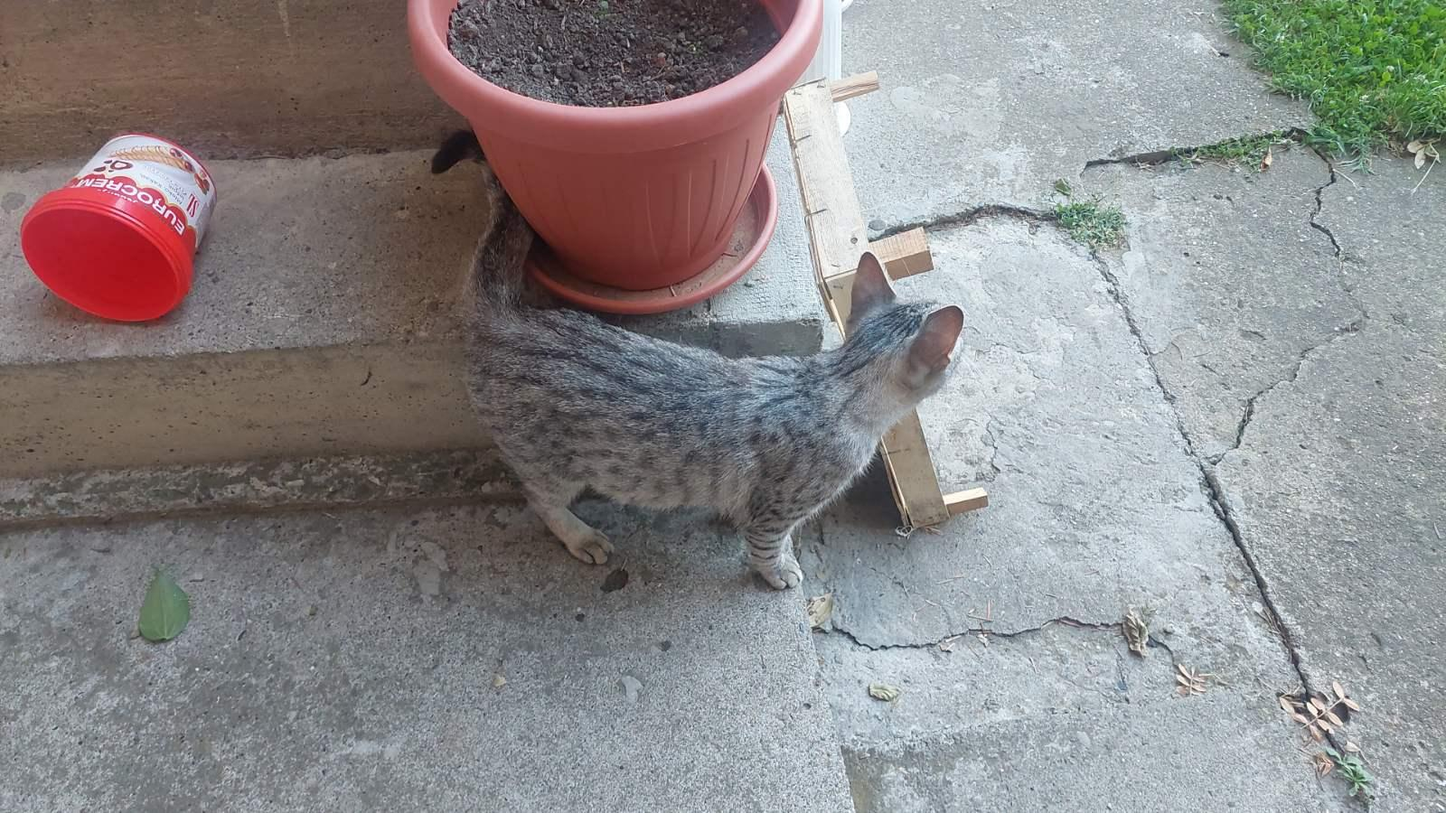macka: (432, 127, 966, 590)
